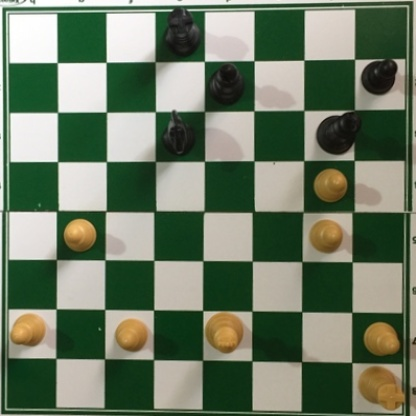black-bishop: (205, 62, 247, 104)
black-king: (314, 109, 364, 157)
black-knight: (160, 106, 197, 160)
black-pawn: (359, 57, 399, 95)
black-rook: (160, 4, 203, 54)
white-king: (203, 312, 245, 354)
white-pawn: (359, 320, 400, 359), (60, 215, 99, 255), (312, 165, 351, 204), (10, 308, 48, 347), (114, 315, 150, 353), (308, 218, 346, 254)
white-rook: (356, 364, 406, 411)
